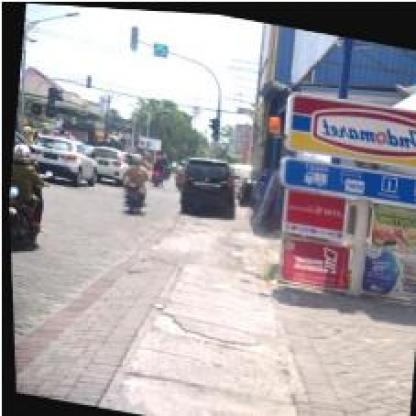green: (42, 85, 53, 109), (207, 115, 218, 138), (127, 24, 136, 48)
